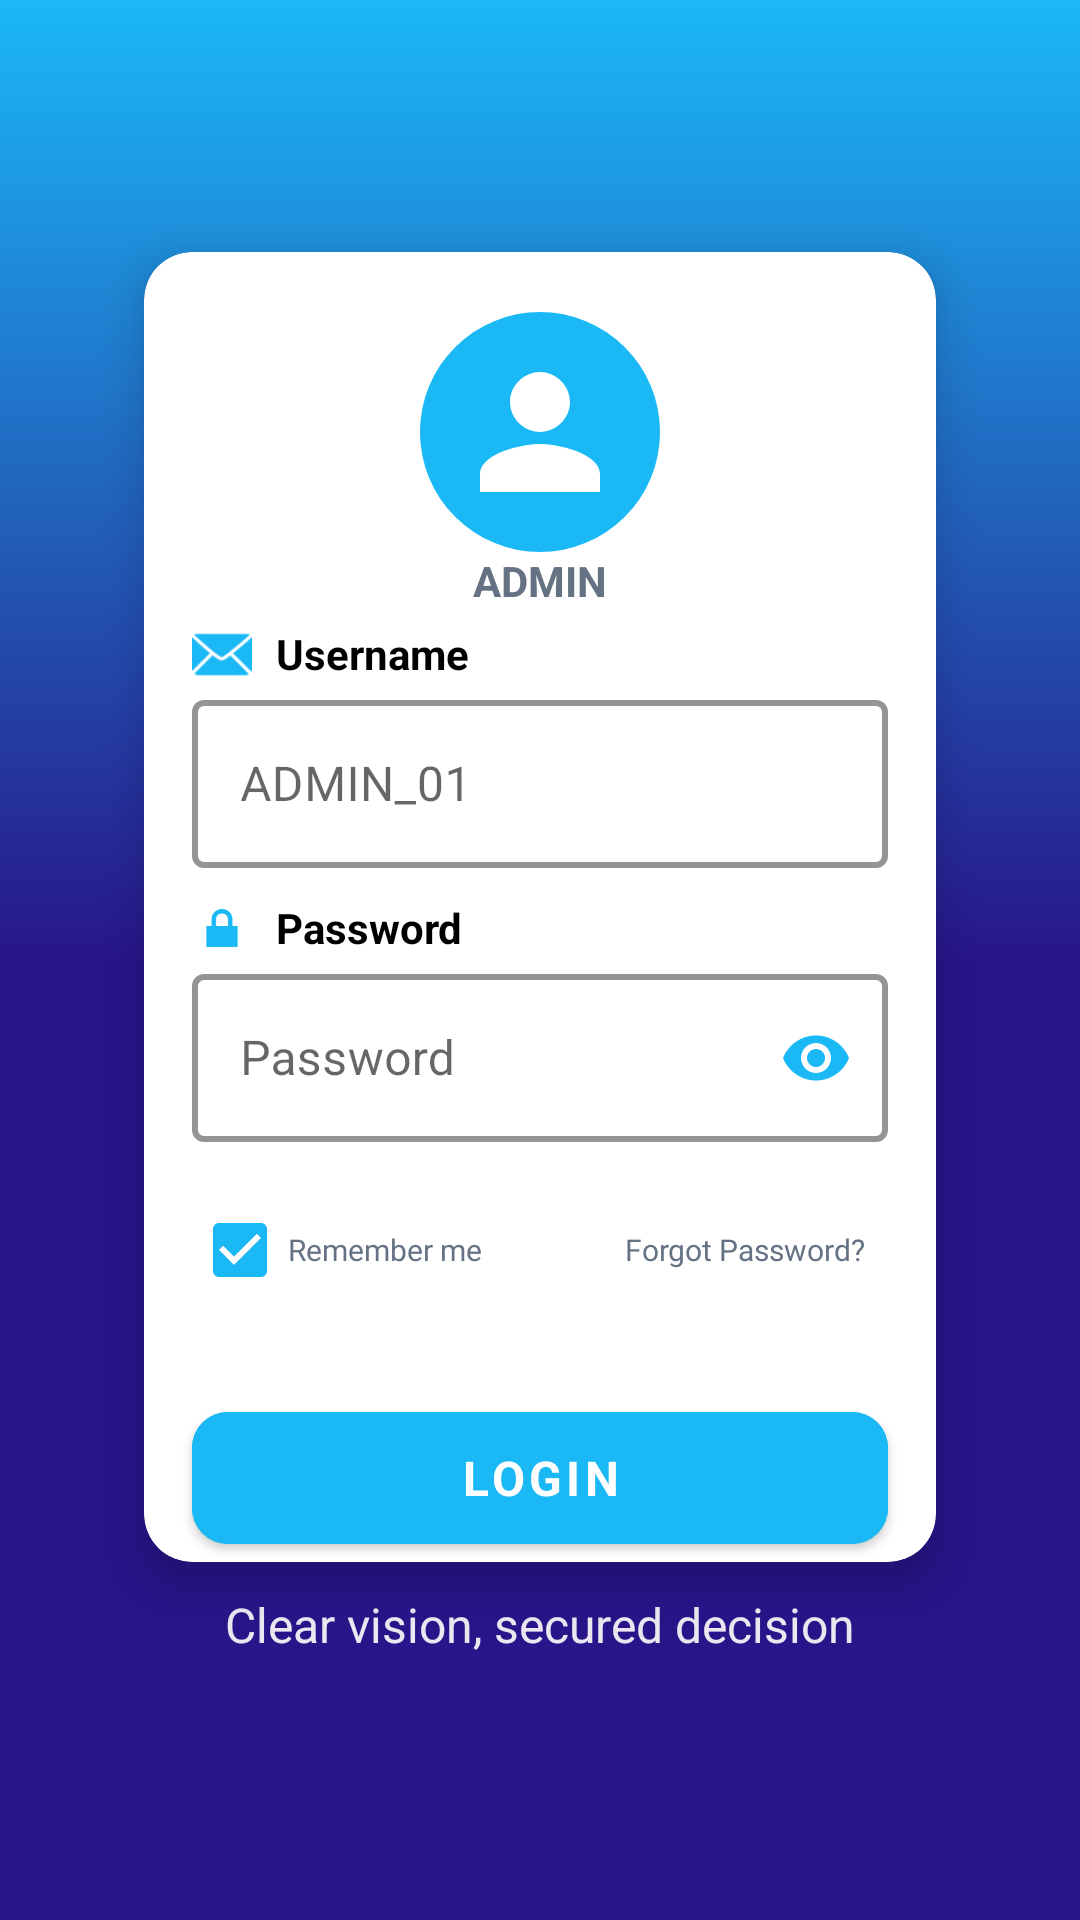

Icon click points for this 1080×1920 phone screenshot, format (x,y):
email: (222,654)
lock: (222,928)
profile: (540,432)
